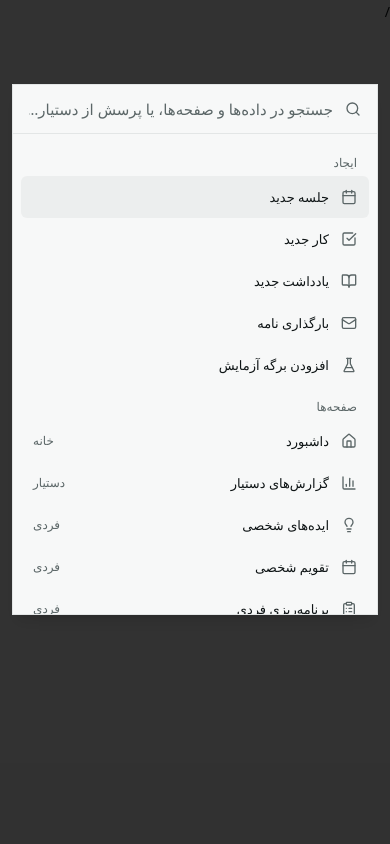
Test case: Command palette › waits for a pause in typing and does not search one letter
Type "ک" into the dropdown with placeholder "جستجو در داده‌ها و صفحه‌ها، یا پرسش از دستیار…". click: [181, 109]
box: top-left (29, 85), bottom-right (333, 133)
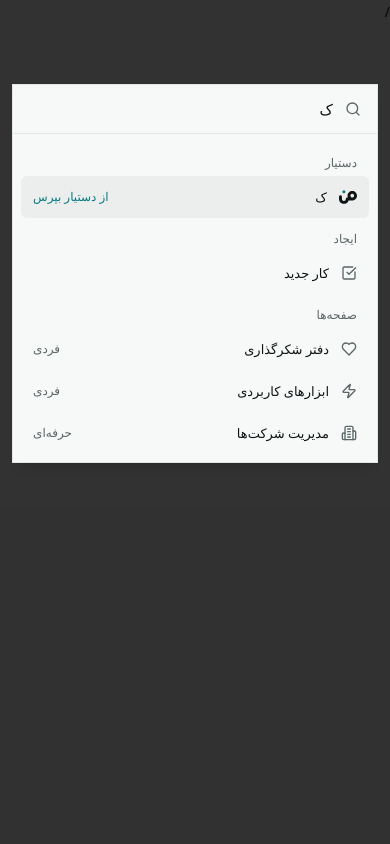
Type "لاته" into the dropdown with placeholder "جستجو در داده‌ها و صفحه‌ها، یا پرسش از دستیار…". click: [181, 109]
box: top-left (29, 85), bottom-right (333, 133)
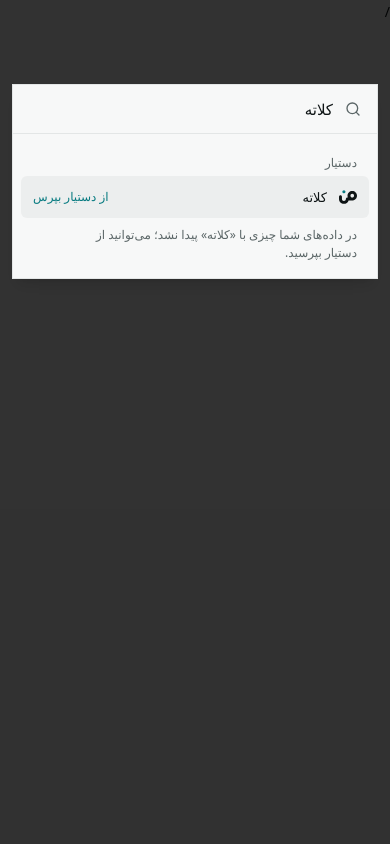
Check: the text "کلاته" is shown, box top-left (302, 188), bottom-right (327, 206)
